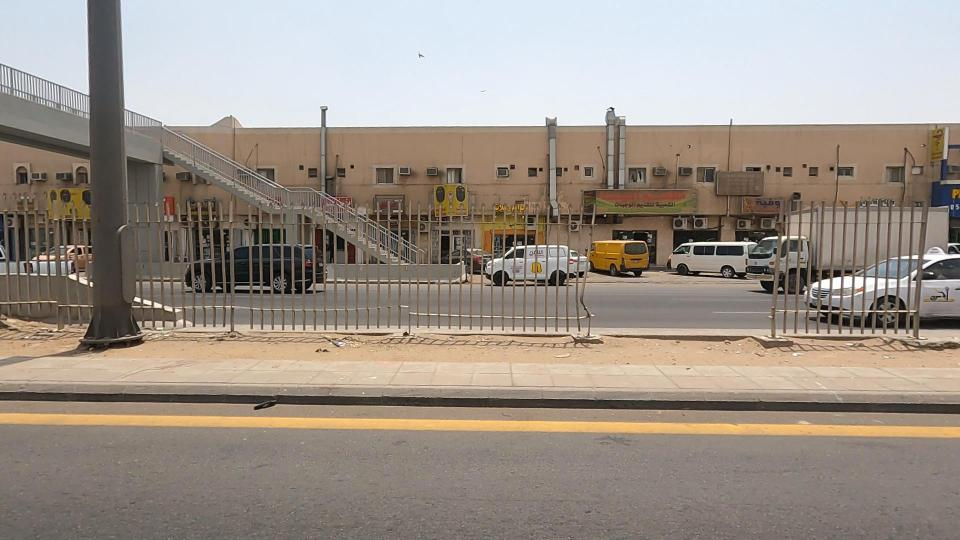BAD_BILLBOARD: (689, 165, 820, 243), (674, 148, 809, 210)
GARBAGE: (305, 307, 373, 371)
